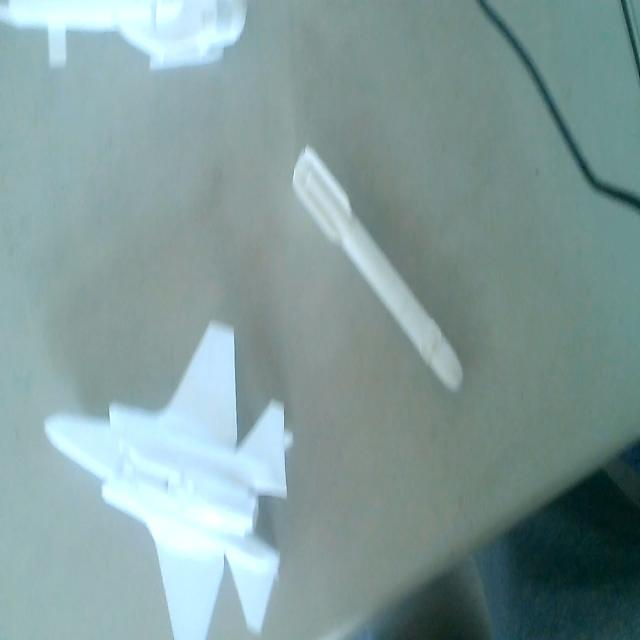Jet: (40, 321, 296, 640)
Rocket: (291, 141, 466, 395)
